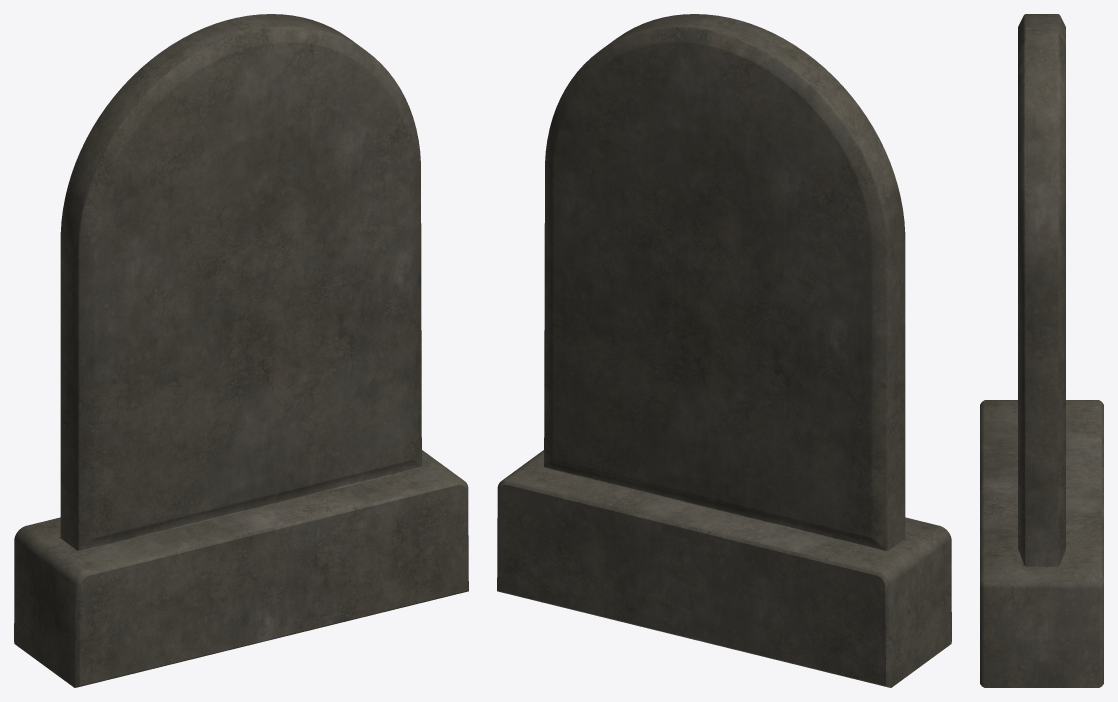
File: tombstone-real.glb
3 renders of one model, left to right at view 1: azimuth 30°, elevation 25°; view 2: azimuth 150°, elevation 25°; view 3: azimuth 270°, elevation 25°, orthographic. The views are drawn at different scales.
Parts seen in each view (by area): view 1: Tombstone_Tombstone_0; view 2: Tombstone_Tombstone_0; view 3: Tombstone_Tombstone_0.
Part boxes in pixels (<box>): Tombstone_Tombstone_0: <box>14,14,468,687</box>; Tombstone_Tombstone_0: <box>497,14,951,687</box>; Tombstone_Tombstone_0: <box>980,14,1103,687</box>.
Size of the model in its own units: 0.4886 by 0.7024 by 0.1394.
1 material, 1 textured.
